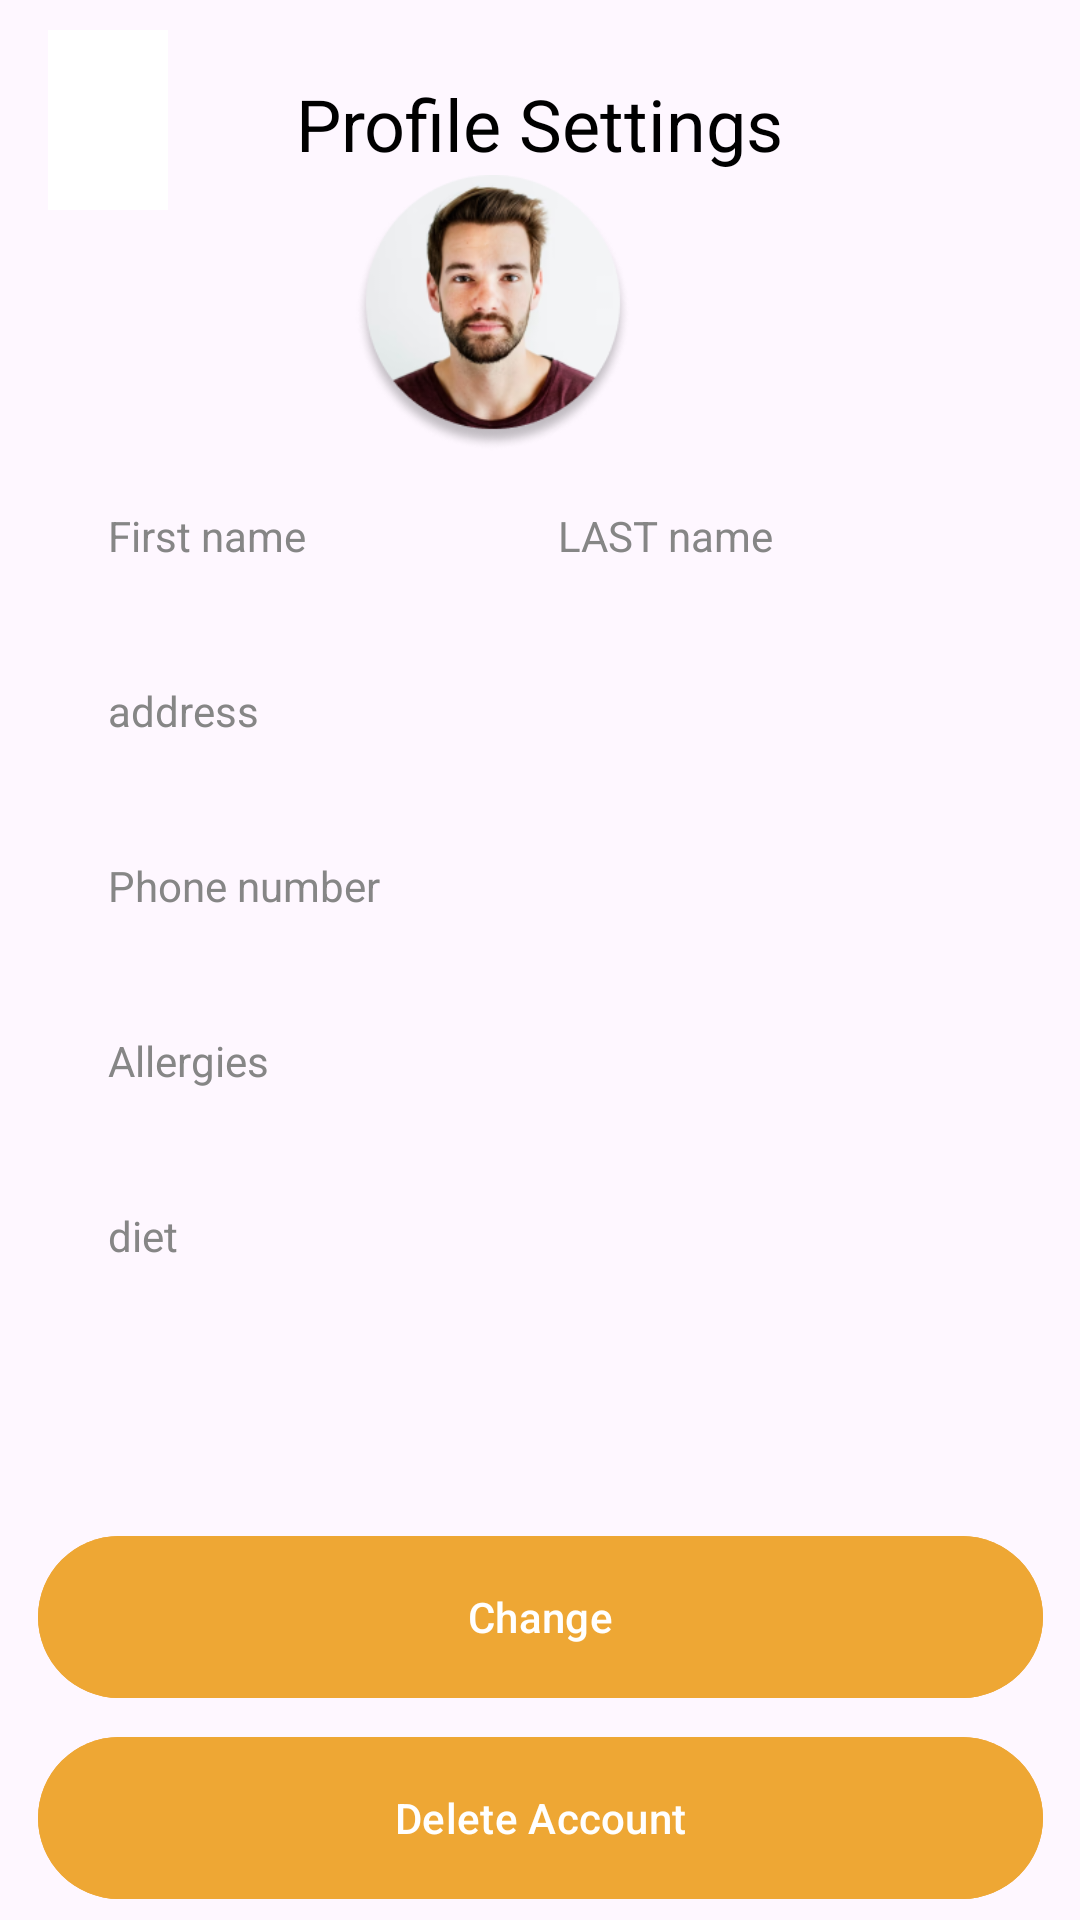

Where to tap for icons on this 1080w x 1920h app screen, as (x=x, y=y):
portrait of: (x=493, y=310)
